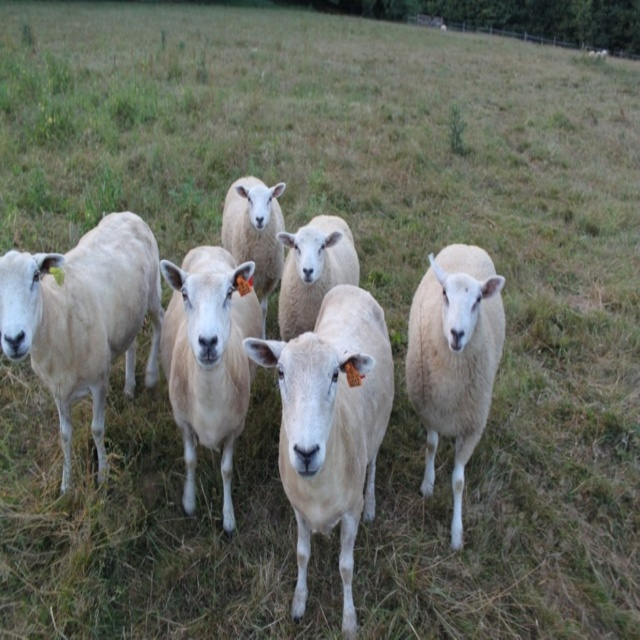Goat: (0, 176, 506, 640)
